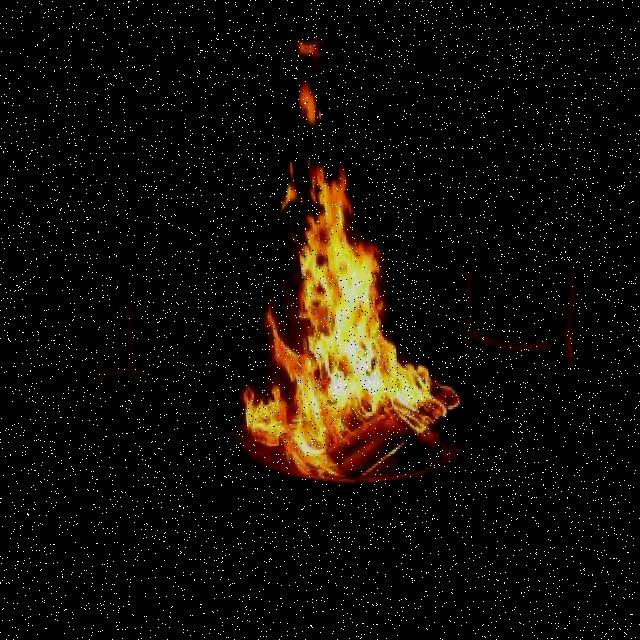Fire: (195, 11, 455, 497)
